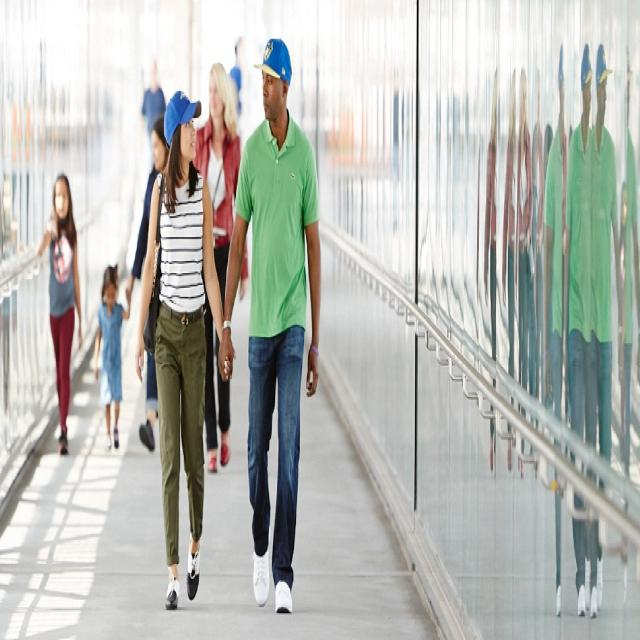body: (293, 37, 636, 621), (215, 28, 323, 621), (134, 80, 237, 618), (0, 49, 126, 443), (191, 59, 251, 472), (125, 115, 169, 456), (36, 167, 85, 460), (93, 263, 131, 452), (139, 55, 168, 175), (227, 37, 245, 151)
